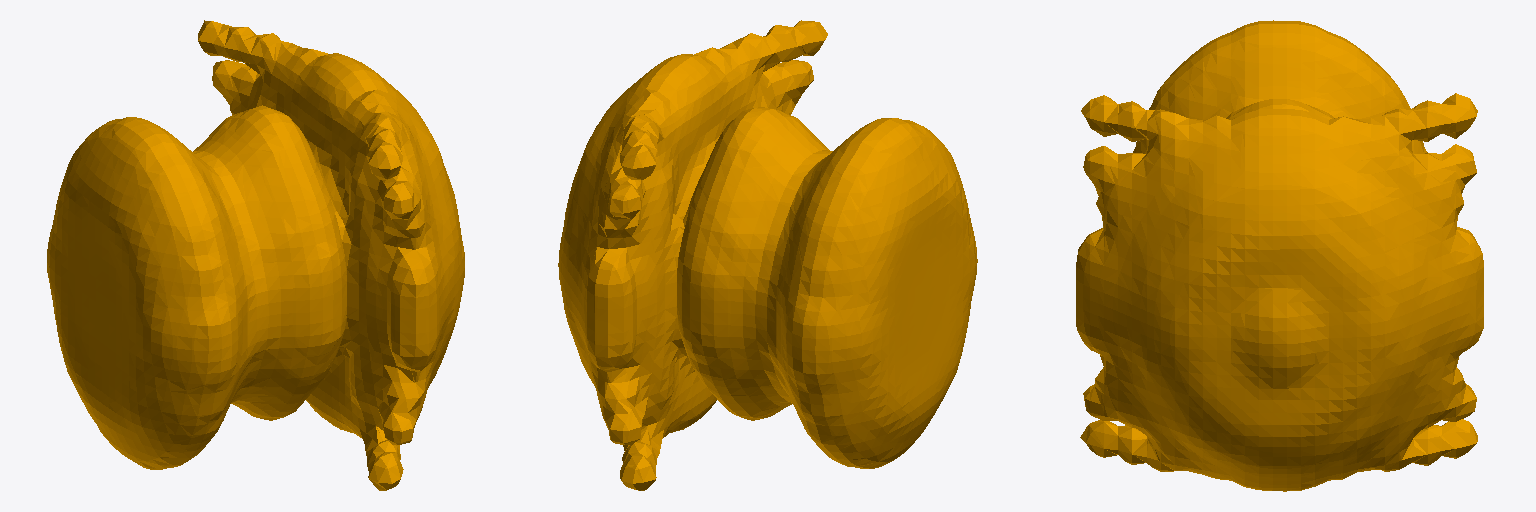
The robot description file, URDF, robot "E16_1":
<?xml version="1.0"?>
<robot name="E16_1">
  <link name="base_link">
    <inertial>
      <mass value="0.13970" />
      <origin xyz="0 0 0" />
      <inertia  ixx="0.0002" ixy="0.0"  ixz="0.0"  iyy="0.0002"  iyz="0.0" izz="0.0002" />
    </inertial>
    <visual>
      <geometry>
        <mesh filename="../../../meshes/egad/train/E16_1.obj" />
      </geometry>
    </visual>
    <collision>
      <geometry>
        <mesh filename="../../../meshes/egad/train/E16_1.obj" />
      </geometry>
    </collision>
  </link>
</robot>

--- What the picture shows (computed from the rendered views, not written in the file) ---
The picture shows the robot from 3 angles, left to right: view 1: azimuth 30°, elevation 25°; view 2: azimuth 150°, elevation 25°; view 3: azimuth 270°, elevation 25°; orthographic projection.
Robot: E16_1 — 1 links, 0 joints (none); root link base_link; default pose: all joints at 0.
Visible links, largest first — view 1: base_link; view 2: base_link; view 3: base_link.
Link boxes in pixels (x1,y1,x2,y2): base_link: (47, 20, 464, 490); base_link: (558, 20, 977, 490); base_link: (1076, 20, 1483, 491).
Size in the robot's own frame: 0.06 by 0.0606 by 0.0618 metres.
1 mesh visuals loaded from 1 distinct referenced files (1 OBJ).